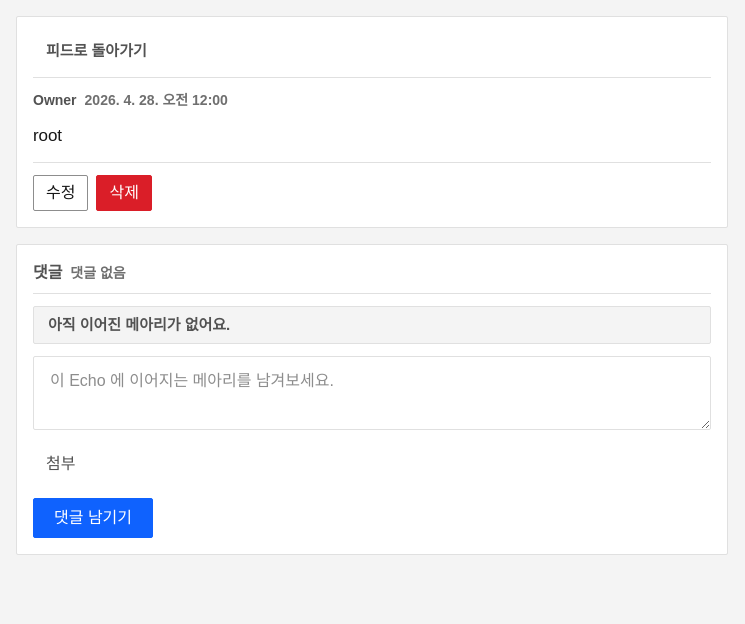
Scenario: EchoDetailPage › 댓글 작성 후 상세를 다시 불러온다
Expected: the text "root" is shown, [33,126,62,145]
Type "reply" into the text box named "댓글 본문".
click(372, 393); type("reply")  # box [33,356,711,430]
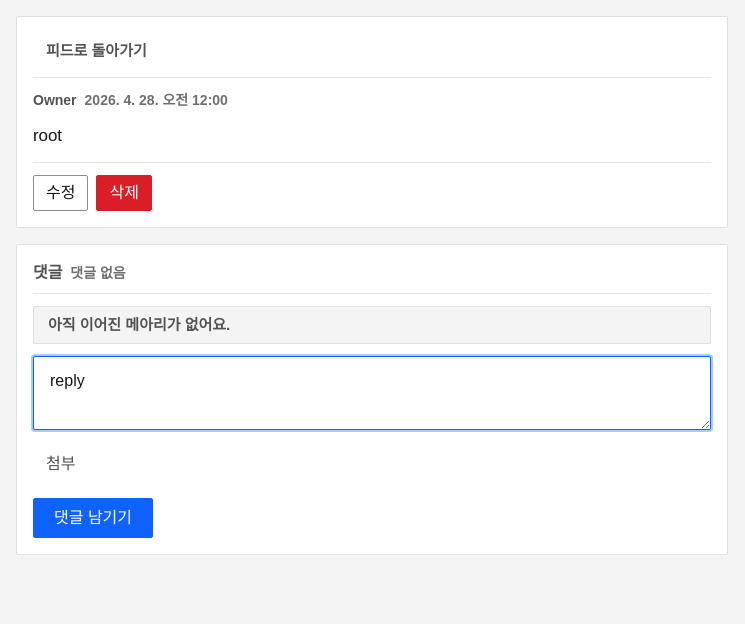
Click the button "댓글 남기기".
click(93, 518)  # box [33,498,153,538]
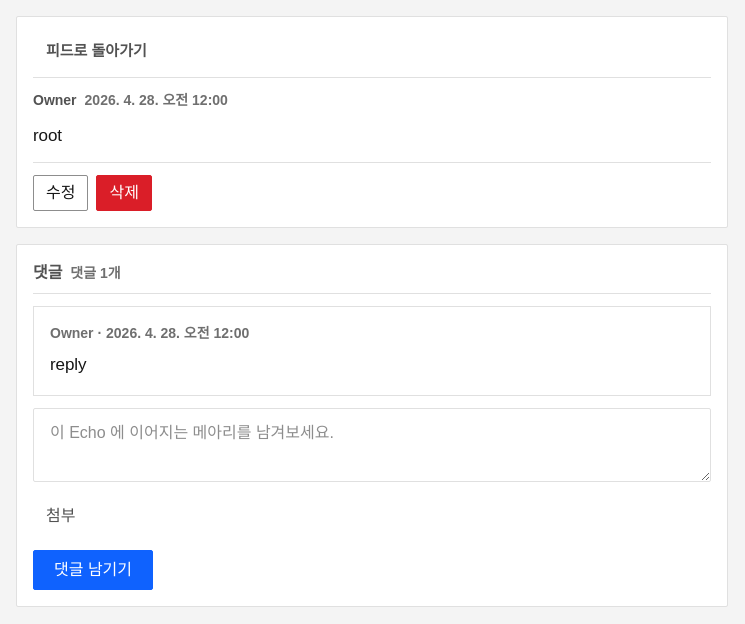
Now the text "reply" is shown, box [50,355,86,374]
